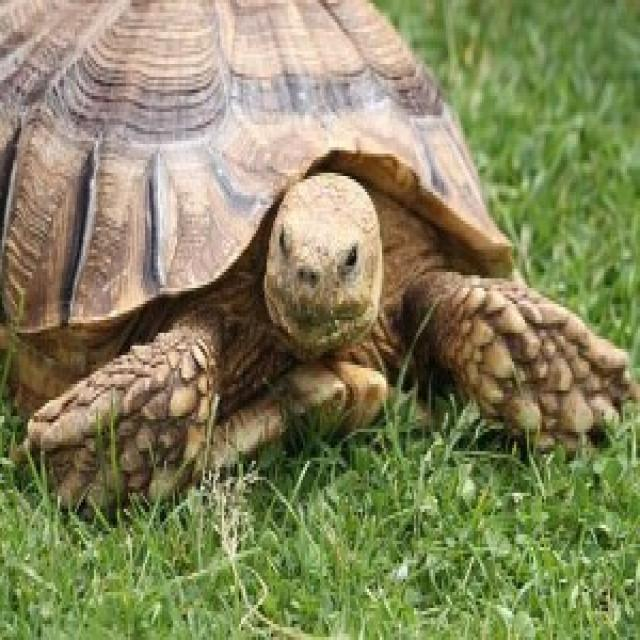Sea turtle: (0, 0, 631, 499)
